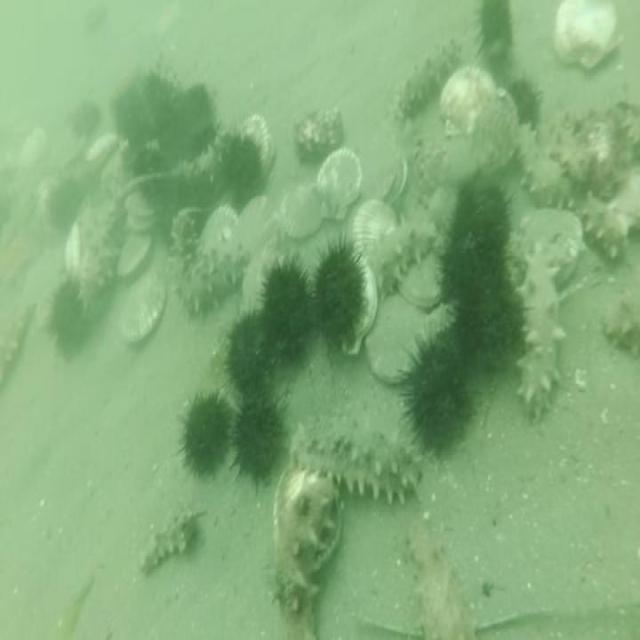echinus: (398, 330, 481, 465), (256, 250, 319, 370), (453, 278, 527, 376), (229, 380, 291, 494), (310, 237, 370, 349), (175, 381, 237, 488), (438, 223, 508, 310), (226, 300, 282, 406), (446, 171, 512, 251), (42, 278, 92, 367), (167, 80, 217, 162), (225, 131, 265, 202), (111, 80, 153, 146), (472, 1, 516, 62), (134, 145, 174, 207), (46, 176, 86, 236), (506, 74, 543, 130), (67, 93, 104, 144)
holothurian: (284, 414, 428, 509), (274, 471, 345, 640), (402, 516, 481, 640), (169, 204, 250, 324), (515, 239, 566, 420), (75, 160, 129, 322), (390, 33, 462, 123), (510, 117, 571, 207), (366, 220, 438, 296), (137, 504, 203, 582), (580, 188, 640, 269), (579, 109, 622, 204), (548, 110, 596, 194), (290, 102, 346, 168), (600, 275, 640, 365), (0, 299, 33, 395), (407, 130, 448, 200), (173, 133, 225, 180), (613, 98, 640, 160)
scallop: (272, 458, 347, 582), (366, 287, 435, 388), (510, 204, 584, 286), (553, 0, 628, 79), (438, 62, 500, 142), (225, 193, 291, 267), (468, 87, 520, 175), (116, 267, 170, 351), (314, 147, 364, 226), (237, 243, 288, 318), (345, 253, 379, 360), (396, 252, 452, 314), (350, 197, 400, 264), (278, 182, 326, 243), (116, 223, 158, 289), (238, 109, 276, 180), (196, 202, 242, 258), (124, 186, 160, 232), (85, 123, 119, 169), (20, 123, 50, 171), (62, 220, 83, 281)
